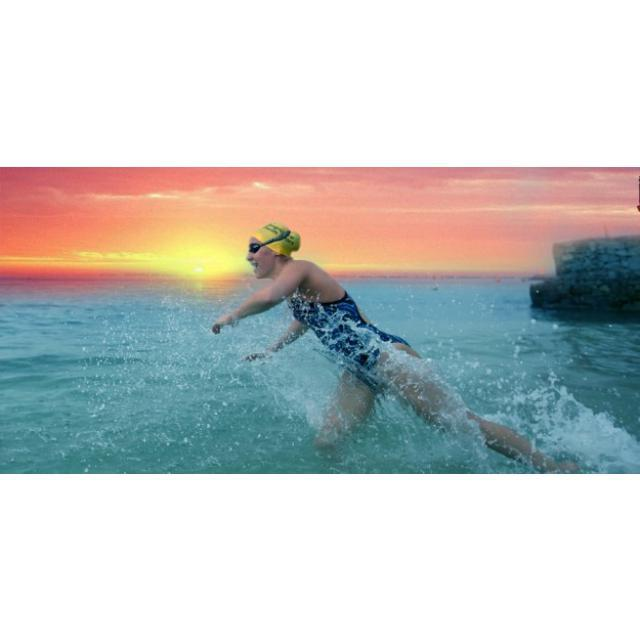human: (214, 220, 575, 473)
